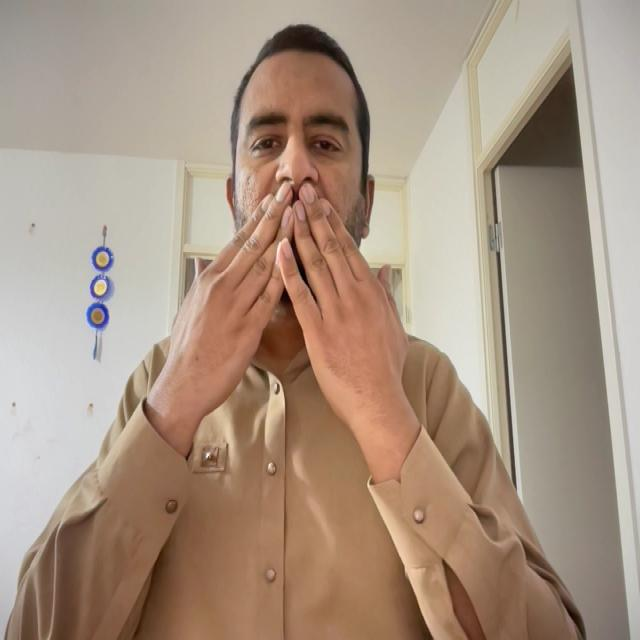Thanks: (174, 174, 435, 452)
